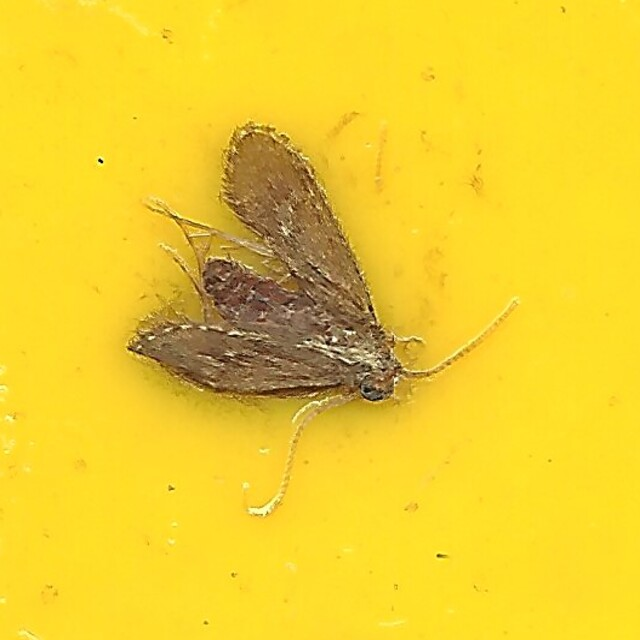Trichoptera: (121, 120, 519, 520)
